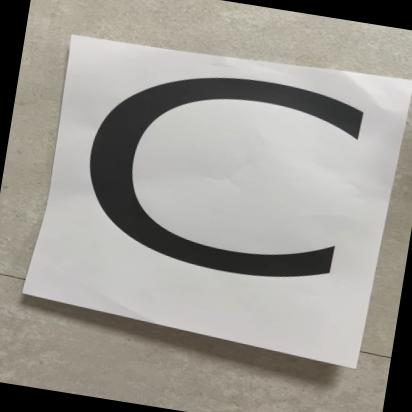seat: (30, 34, 397, 344)
